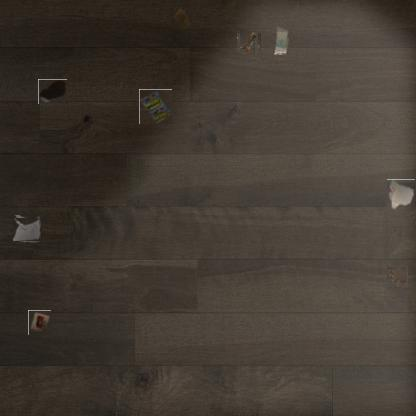dirty: (139, 89, 172, 124), (387, 179, 415, 210), (14, 216, 40, 242), (271, 23, 289, 56), (28, 310, 51, 335), (238, 32, 260, 52), (172, 8, 192, 29)
liquid: (38, 79, 67, 104), (387, 267, 408, 287)
